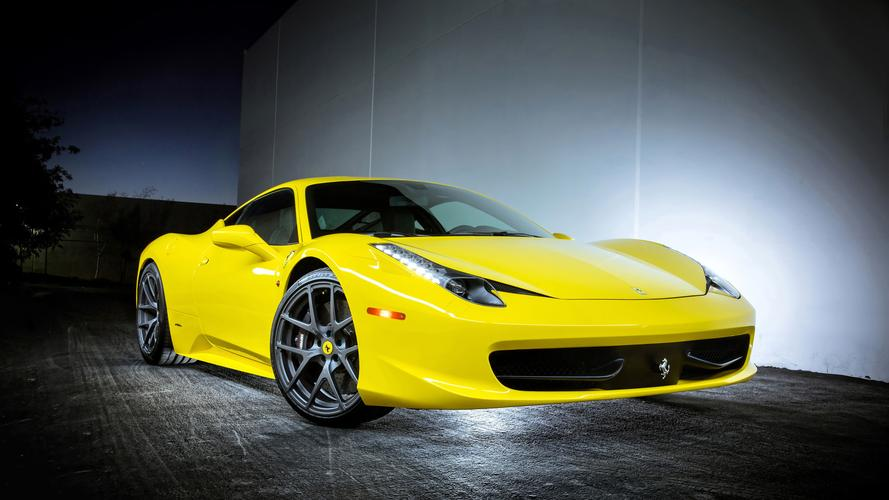汽车: (120, 172, 791, 440)
